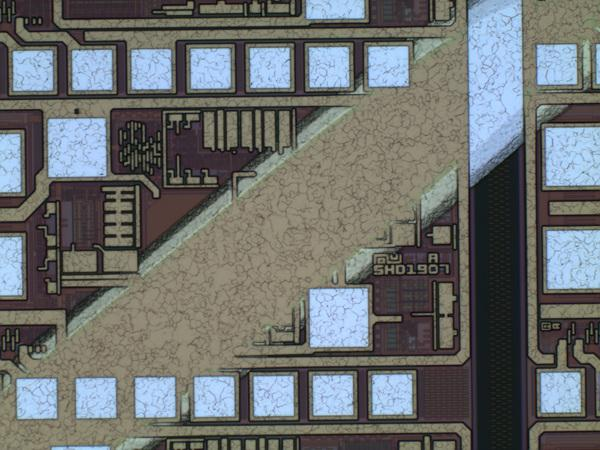BLOCK ETCH: (1, 1, 600, 450)
